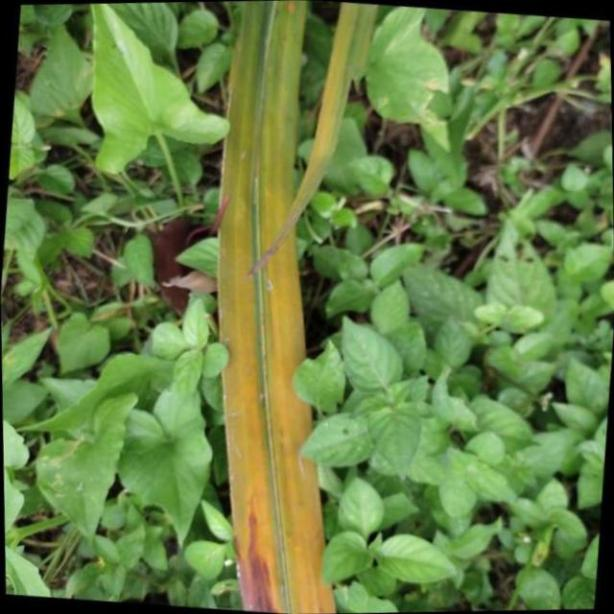Megnesium: (214, 0, 328, 614)
